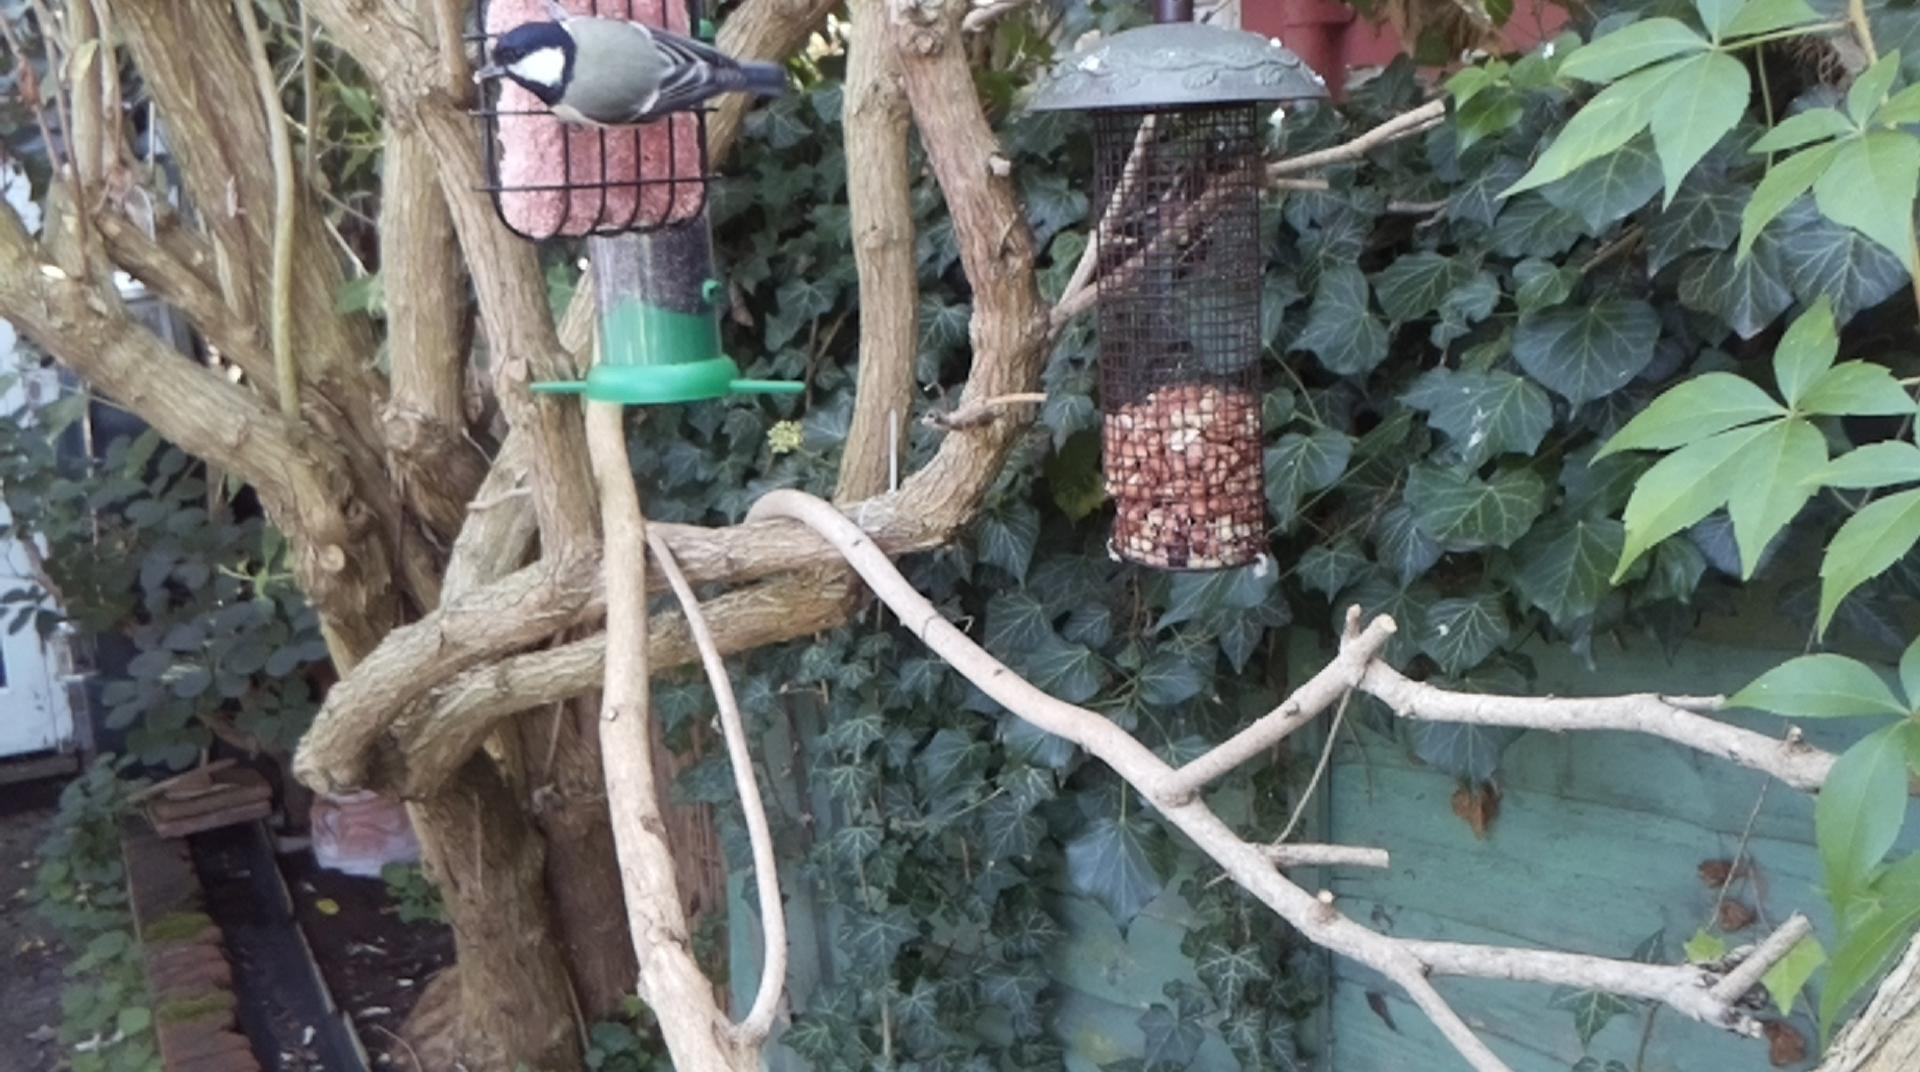great tit: (472, 15, 790, 128)
